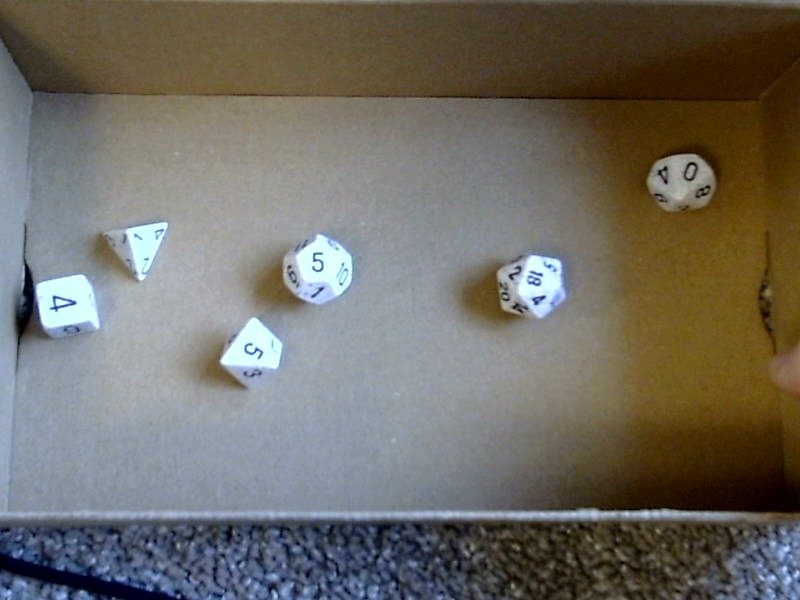d10 10: (640, 147, 721, 223)
d12 5: (272, 230, 360, 309)
d20 18: (485, 245, 568, 328)
d4 1: (98, 213, 171, 284)
d6 4: (28, 268, 105, 342)
d8 5: (215, 316, 290, 390)
